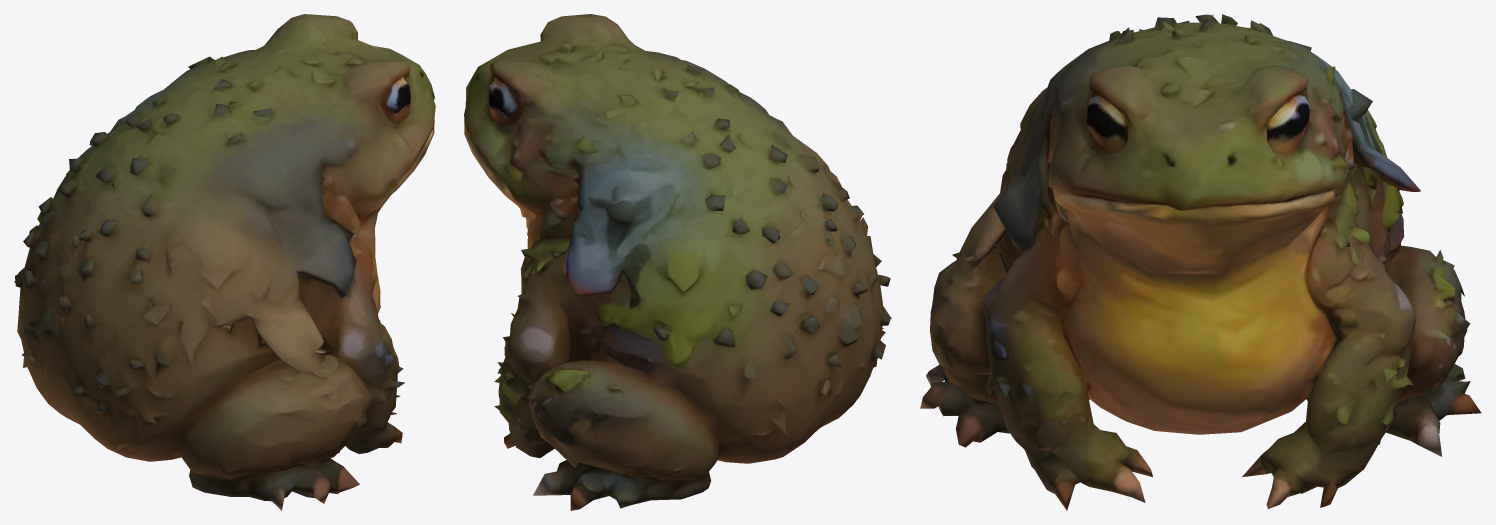
File: mob_toad.glb
The picture shows the model from 3 angles, left to right: view 1: azimuth 30°, elevation 25°; view 2: azimuth 150°, elevation 25°; view 3: azimuth 270°, elevation 25°; orthographic projection. The views are drawn at different scales.
Parts seen in each view (by area): view 1: tripo_node_0153710b-8e9d-4f42-aa3e-2bbf8f4e199a; view 2: tripo_node_0153710b-8e9d-4f42-aa3e-2bbf8f4e199a; view 3: tripo_node_0153710b-8e9d-4f42-aa3e-2bbf8f4e199a.
Part boxes in pixels (x1,y1,x2,y2): tripo_node_0153710b-8e9d-4f42-aa3e-2bbf8f4e199a: (14,14,435,510); tripo_node_0153710b-8e9d-4f42-aa3e-2bbf8f4e199a: (464,14,891,510); tripo_node_0153710b-8e9d-4f42-aa3e-2bbf8f4e199a: (920,14,1481,510).
Size of the model in its own units: 0.959 by 0.8611 by 1.
Materials: 1 (1 with a texture image).
